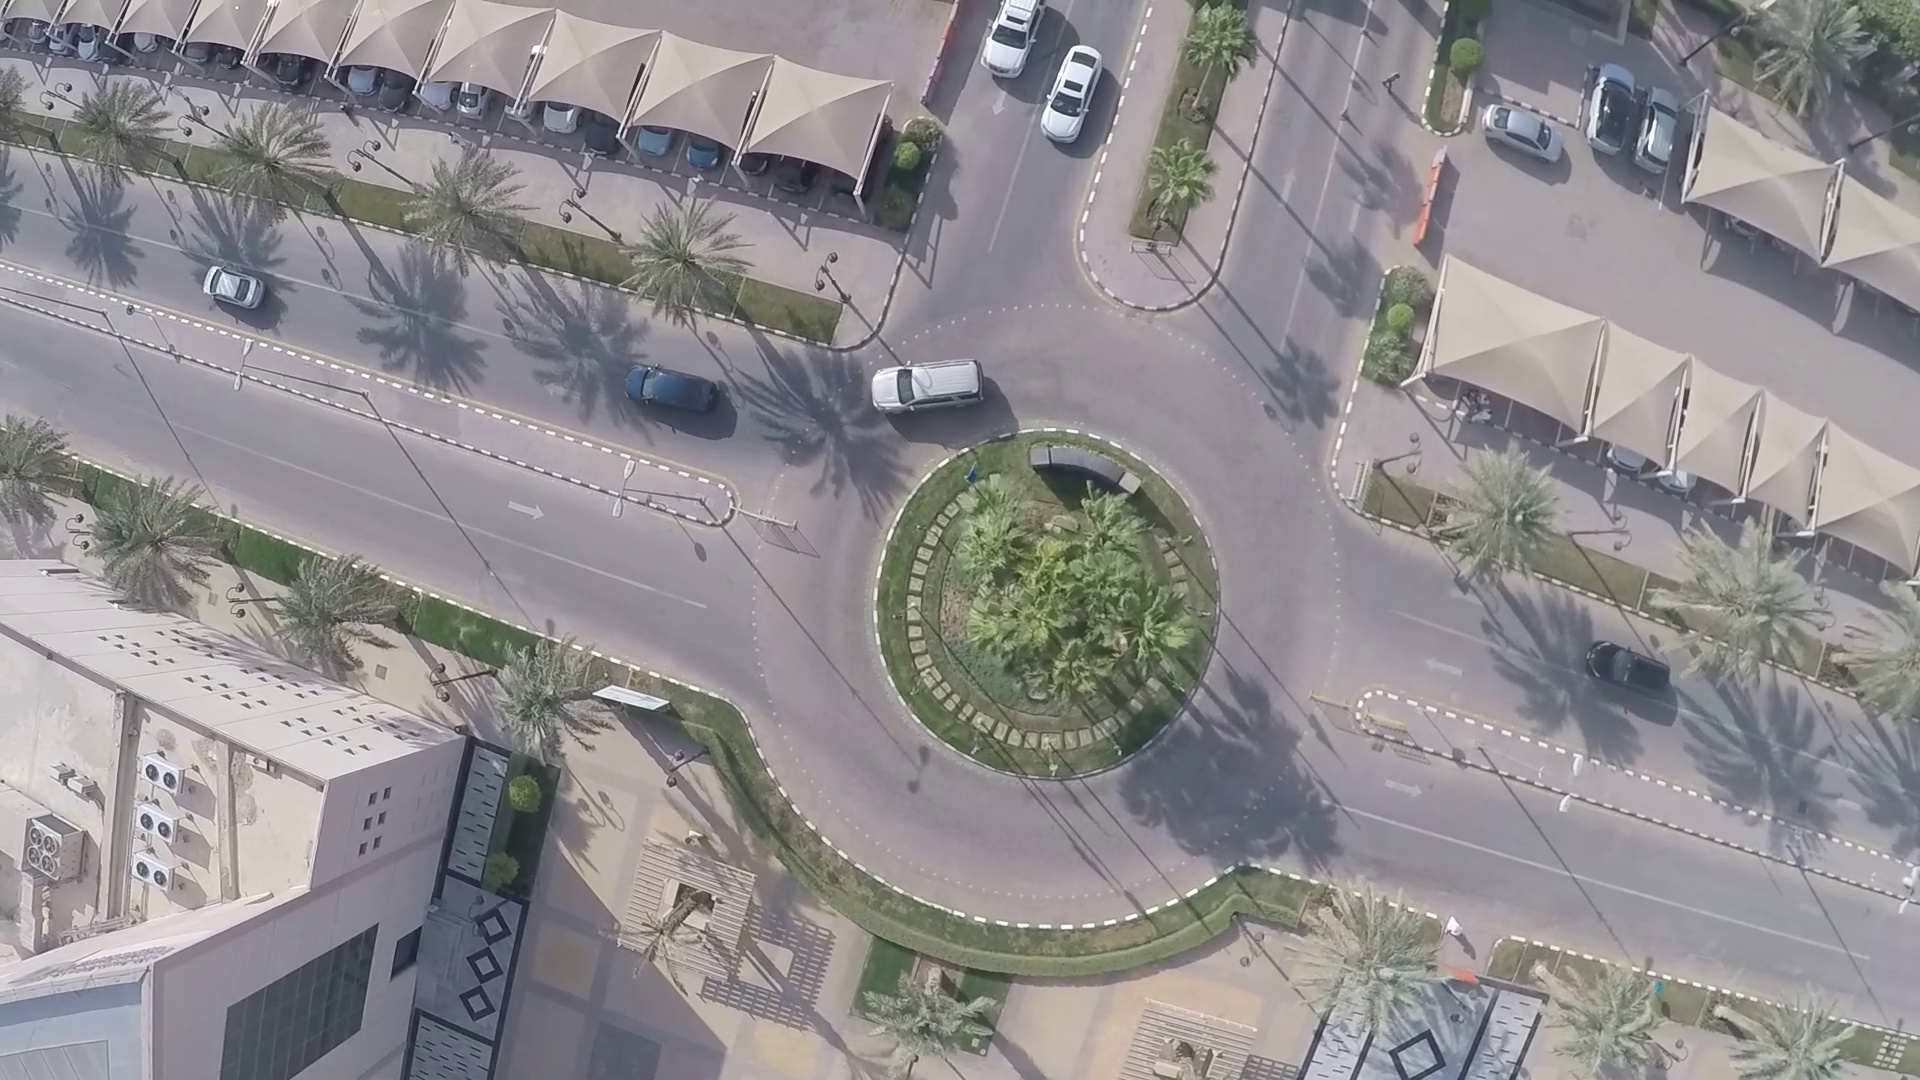car: (1046, 34, 1106, 170), (618, 356, 731, 415), (872, 359, 992, 411), (978, 1, 1036, 86), (206, 262, 277, 320), (1581, 638, 1664, 686)
